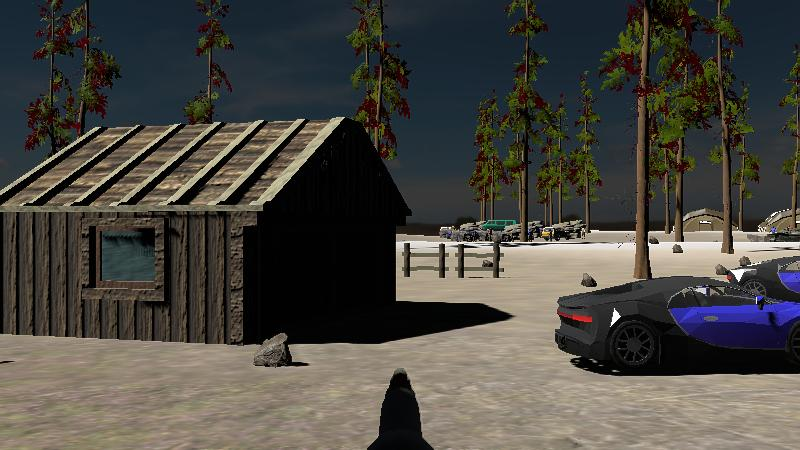House: (0, 121, 413, 342)
car: (551, 273, 800, 374), (713, 253, 800, 322), (479, 219, 518, 234)
